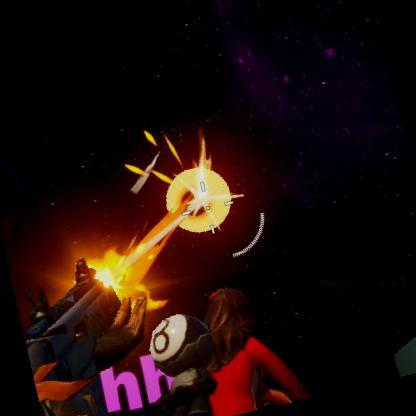person: (135, 270, 324, 416)
